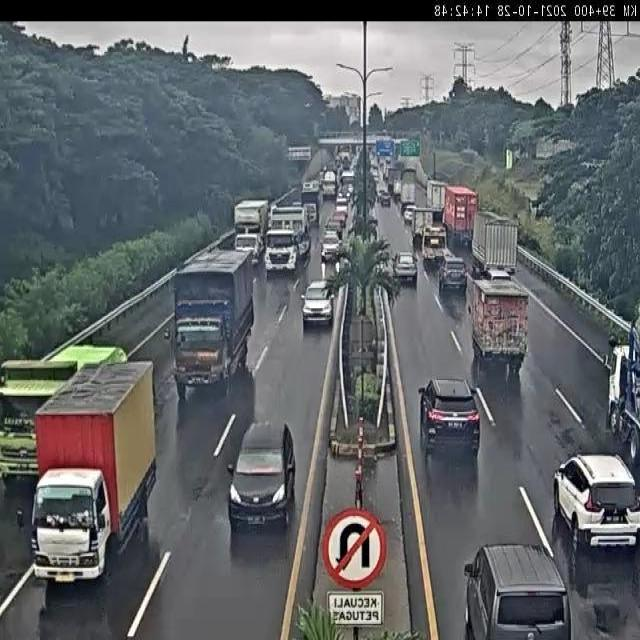Car: (556, 446, 640, 564), (469, 546, 564, 637), (225, 416, 296, 536), (419, 375, 481, 450), (300, 279, 331, 324), (437, 257, 471, 295), (393, 250, 424, 289), (317, 235, 340, 265), (336, 198, 349, 218), (379, 192, 392, 208)
Truck: (16, 365, 170, 593), (0, 338, 125, 470), (165, 256, 251, 394), (464, 280, 542, 366), (598, 315, 639, 447), (473, 205, 521, 273), (265, 208, 308, 272), (229, 198, 274, 257), (448, 184, 482, 238), (419, 220, 450, 264), (300, 180, 324, 222), (410, 206, 438, 239), (424, 177, 446, 213), (323, 164, 341, 197)
